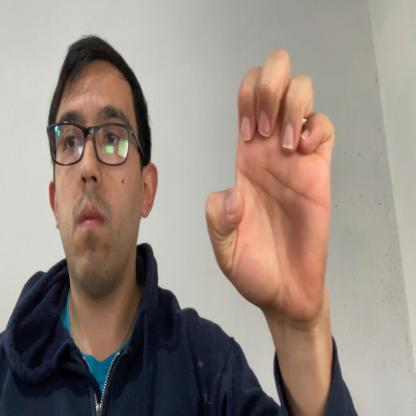E: (206, 47, 336, 316)
